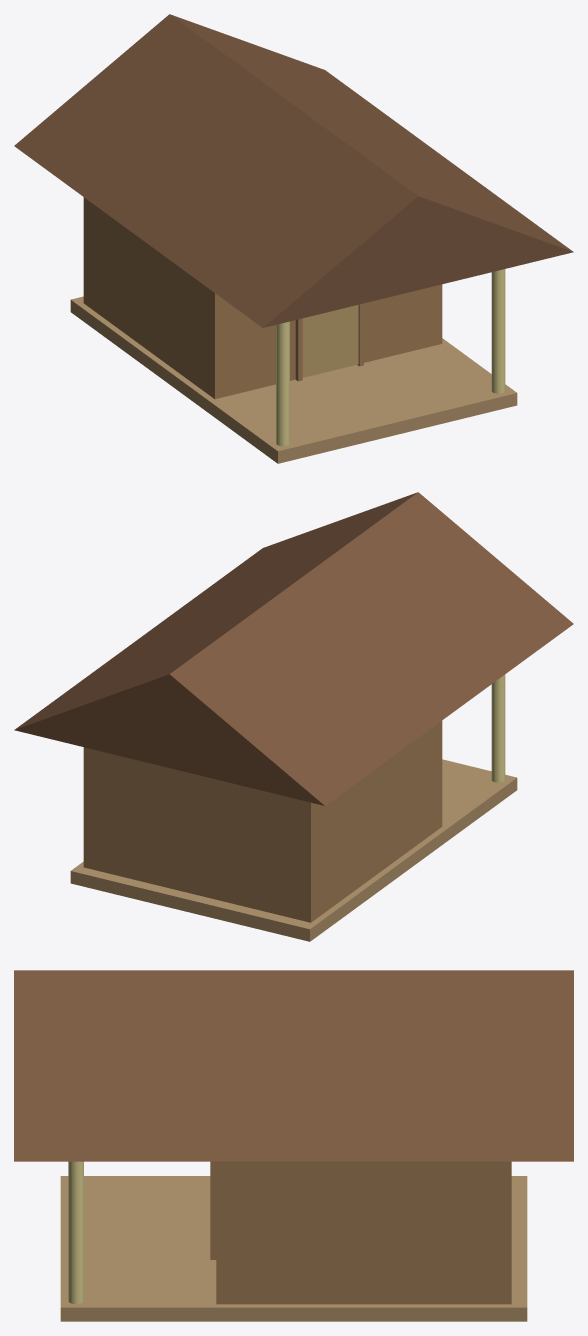
File: rumah.fbx
3 renders of one model, top to bottom at view 1: azimuth 30°, elevation 25°; view 2: azimuth 150°, elevation 25°; view 3: azimuth 270°, elevation 25°, orthographic. The views are drawn at different scales.
Visible parts, largest first — view 1: Atap, Dinding, Lantai, Pintu_Kayu, Tiang_Bambu.001, Tiang_Bambu, Kusen; view 2: Atap, Dinding, Lantai, Tiang_Bambu; view 3: Atap, Dinding, Lantai, Tiang_Bambu.001, Kusen.
Boxes of the visible parts, x1,y1,x2,y2 form: Atap: (14, 14, 573, 327); Dinding: (83, 197, 442, 399); Lantai: (70, 296, 517, 463); Pintu_Kayu: (302, 305, 358, 377); Tiang_Bambu.001: (491, 269, 505, 393); Tiang_Bambu: (276, 321, 289, 446); Kusen: (295, 303, 363, 381); Atap: (14, 492, 573, 805); Dinding: (83, 721, 442, 922); Lantai: (70, 759, 517, 941); Tiang_Bambu: (491, 674, 505, 782); Atap: (14, 970, 573, 1161); Dinding: (216, 1161, 511, 1304); Lantai: (60, 1176, 527, 1321); Tiang_Bambu.001: (68, 1161, 83, 1304); Kusen: (210, 1161, 216, 1259).
Size of the model in its own units: 520 by 405 by 720.
